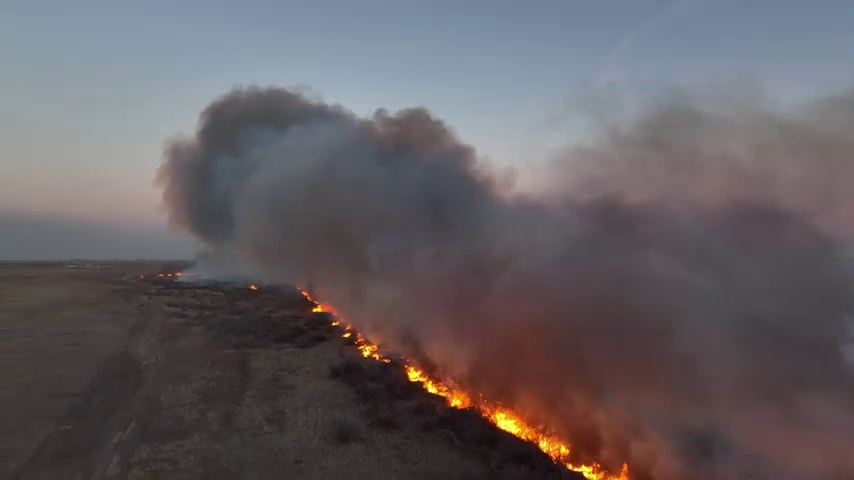forest_fire: (401, 356, 628, 479), (298, 285, 391, 362)
